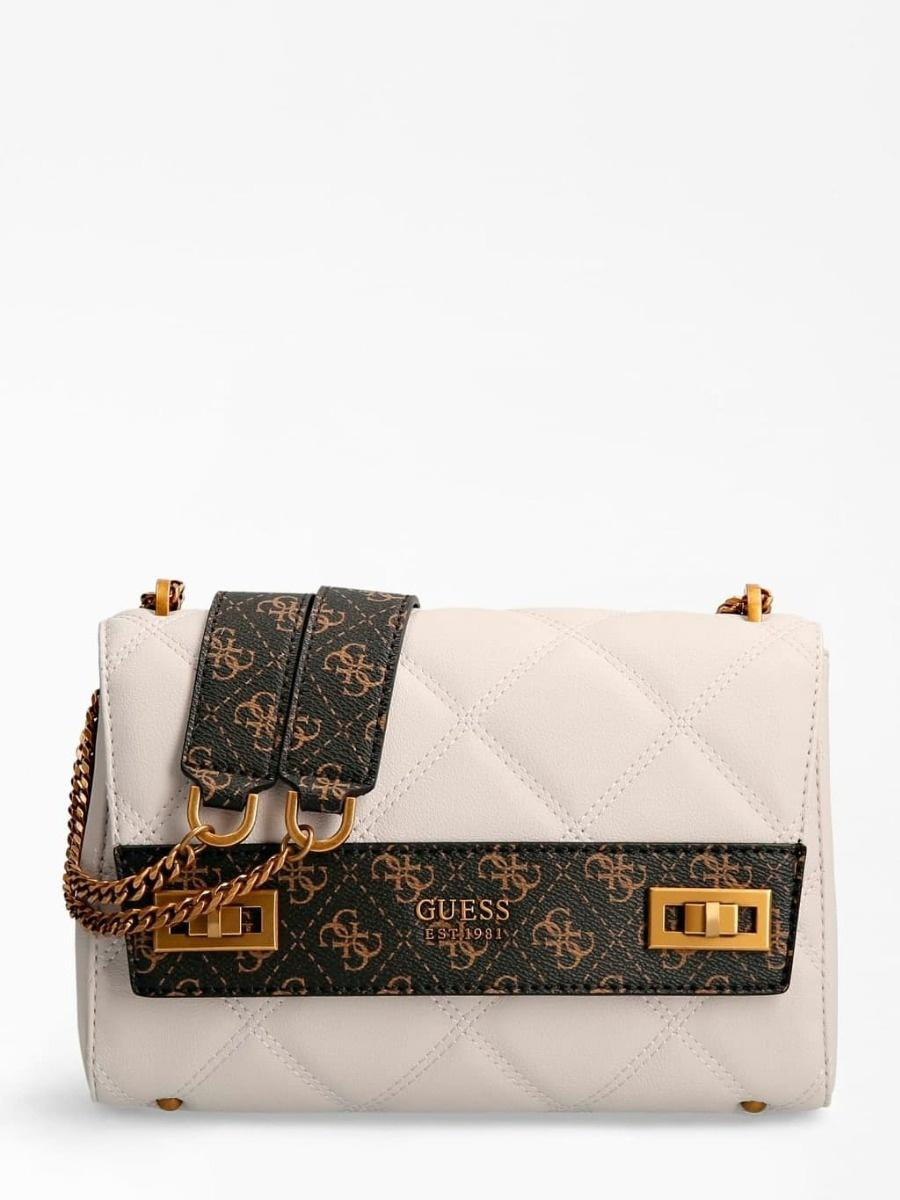GUESS: (415, 898, 509, 921)
